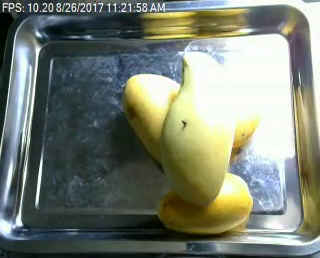Mango: (160, 50, 233, 201), (155, 174, 250, 231), (122, 73, 178, 163)
